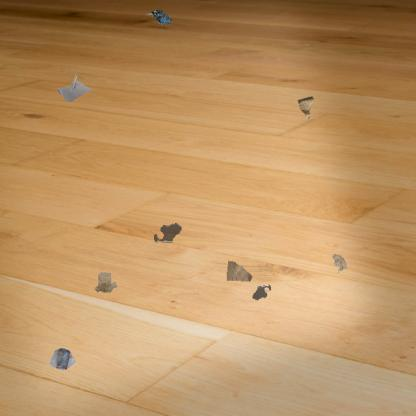dirty: (56, 72, 92, 106), (48, 346, 78, 372), (224, 259, 255, 284), (92, 270, 119, 294), (143, 8, 174, 26), (296, 94, 316, 120), (330, 252, 349, 273)
liquid: (152, 222, 182, 244), (251, 284, 272, 300)
